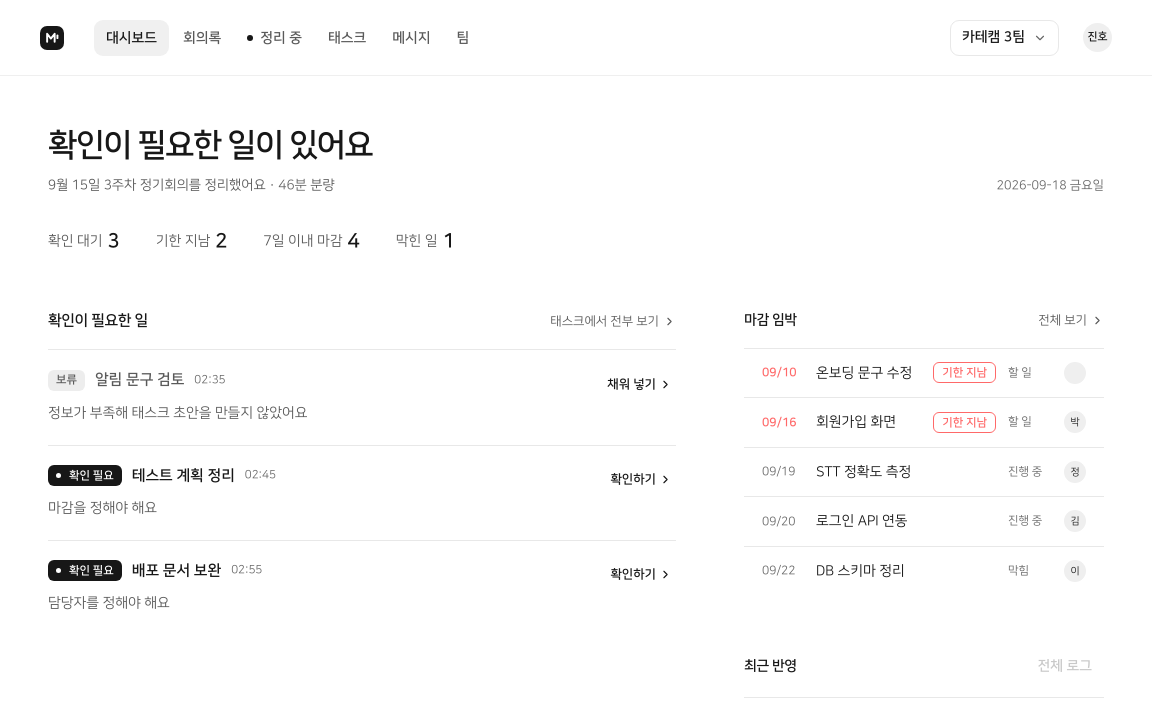
Scenario: 마감 임박 (AC-02) › 전체 보기는 태스크 목록의 진행 중 + 기한 지남·7일 이내 조건이다 — 같은 6건이 보인다
Click the link "전체 보기" at (1071,321), box [1038, 310, 1104, 331]
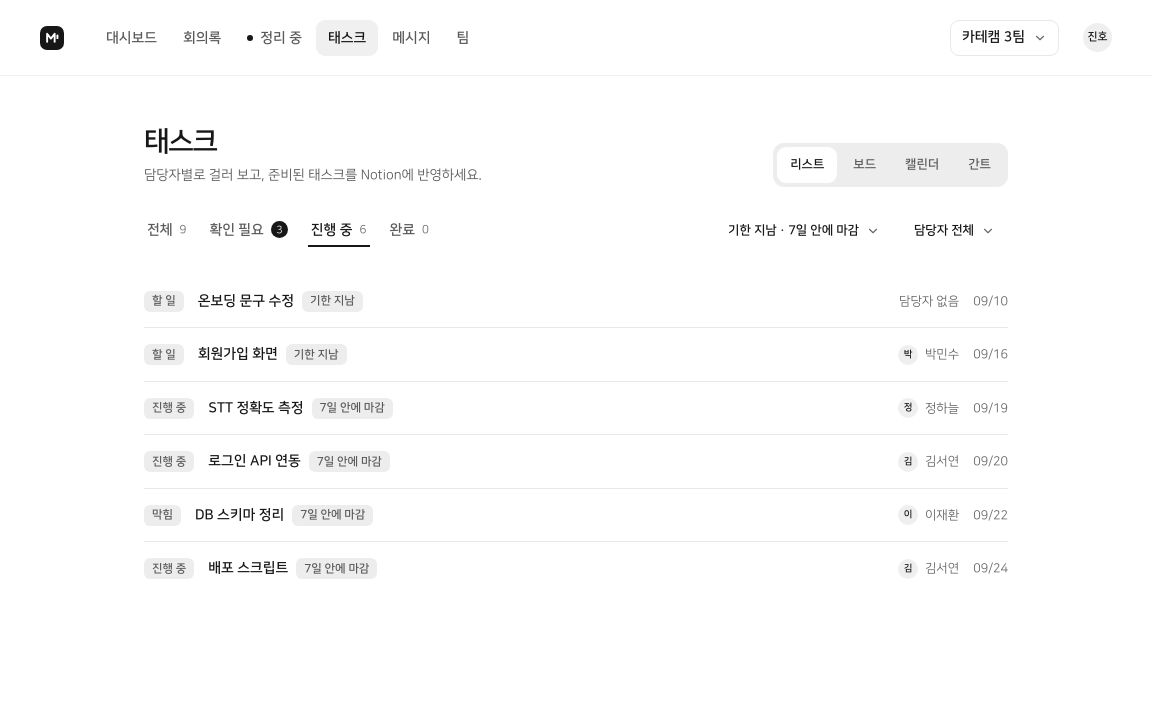
Check: the links read "온보딩 문구 수정", "회원가입 화면", "STT 정확도 측정", "로그인 API 연동", "DB 스키마 정리", "배포 스크립트", in this order, box [198, 289, 294, 313]; [198, 342, 278, 367]; [208, 396, 304, 420]; [208, 449, 301, 474]; [195, 503, 284, 527]; [208, 556, 288, 581]
